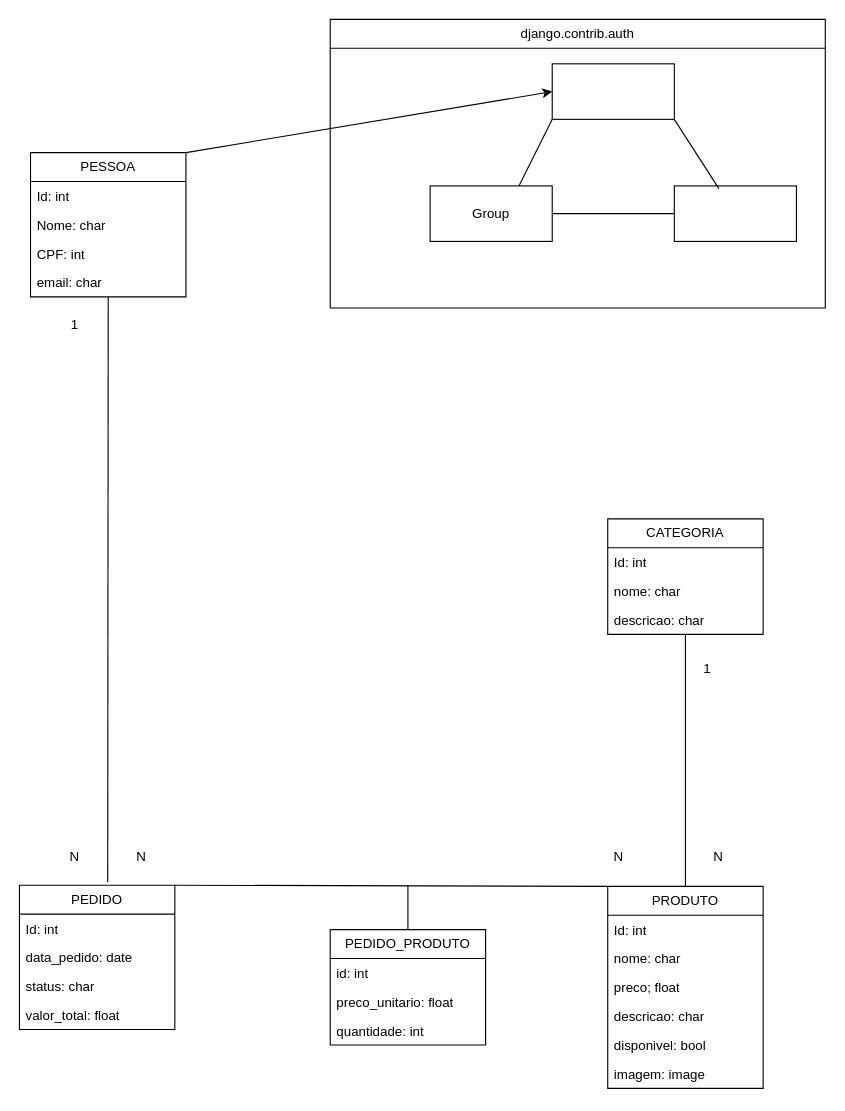
This 845x1111 diagram has some shape labels left out. Each missing label, with the centre of its shape:
Permission: [734,213]
User: [612,91]
